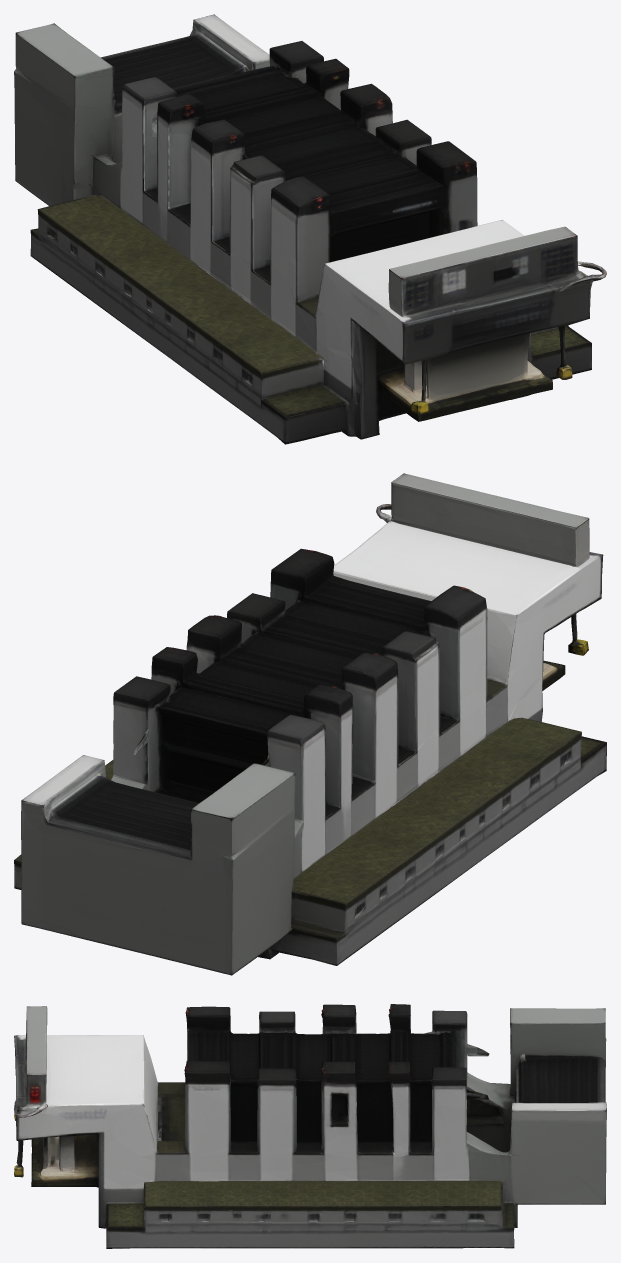
3 renders of one model, top to bottom at view 1: azimuth 30°, elevation 25°; view 2: azimuth 150°, elevation 25°; view 3: azimuth 270°, elevation 25°, orthographic. The views are drawn at different scales.
Parts seen in each view (by area): view 1: world; view 2: world; view 3: world.
Boxes of the visible parts, x1,y1,x2,y2 form: world: [14, 14, 606, 444]; world: [14, 473, 606, 975]; world: [14, 1004, 606, 1248].
Bounding box in the file's own units: 0.4759 × 0.2918 × 0.9961.
Materials: 1 (1 with a texture image).
